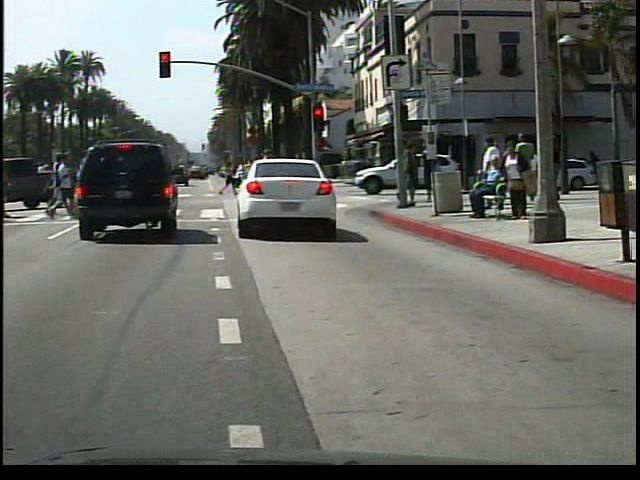person: (504, 138, 540, 225), (470, 156, 512, 218), (253, 145, 288, 217)
